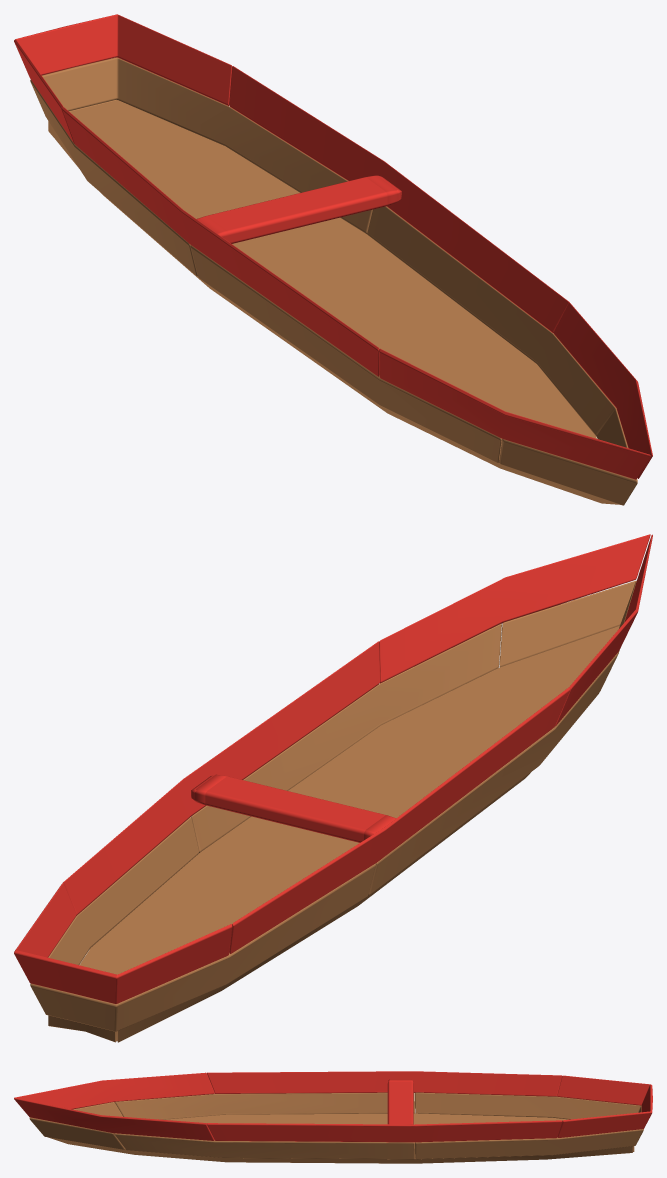
Rendered from boat.gltf.
The picture shows the model from 3 angles, top to bottom: view 1: azimuth 30°, elevation 25°; view 2: azimuth 150°, elevation 25°; view 3: azimuth 270°, elevation 25°; orthographic projection. The views are drawn at different scales.
Parts seen in each view (by area): view 1: rootnode; view 2: rootnode; view 3: rootnode.
Part boxes in pixels (<box>): rootnode: <box>14,14,652,505</box>; rootnode: <box>14,534,652,1042</box>; rootnode: <box>14,1071,652,1163</box>.
Bounding box in the file's own units: 0.2 × 0.08 × 1.
